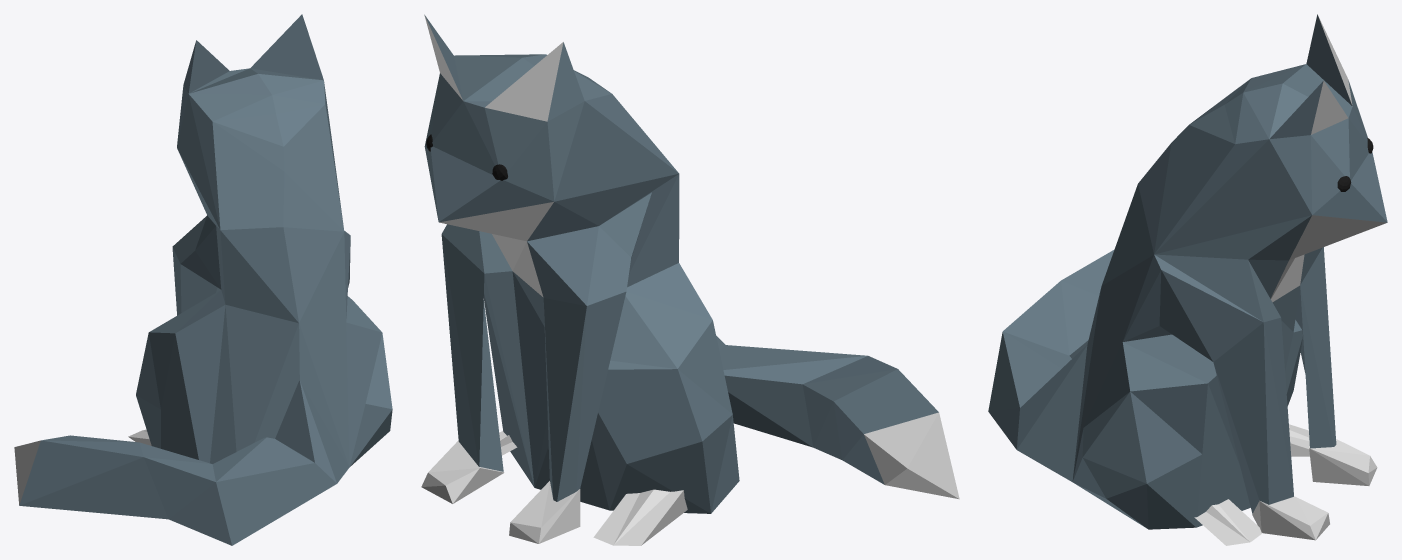
The model's file is cat.glb.
3 views of the same model, side by side, from view 1: azimuth 30°, elevation 25°; view 2: azimuth 150°, elevation 25°; view 3: azimuth 270°, elevation 25° (orthographic). The views are drawn at different scales.
Visible parts, largest first — view 1: group1684450172; view 2: group1684450172; view 3: group1684450172.
Boxes of the visible parts, x1=… form: group1684450172: x1=14, y1=14, x2=392, y2=545; group1684450172: x1=421, y1=14, x2=959, y2=545; group1684450172: x1=988, y1=14, x2=1387, y2=545.
Size of the model in its own units: 0.464 by 0.47 by 0.3645.
